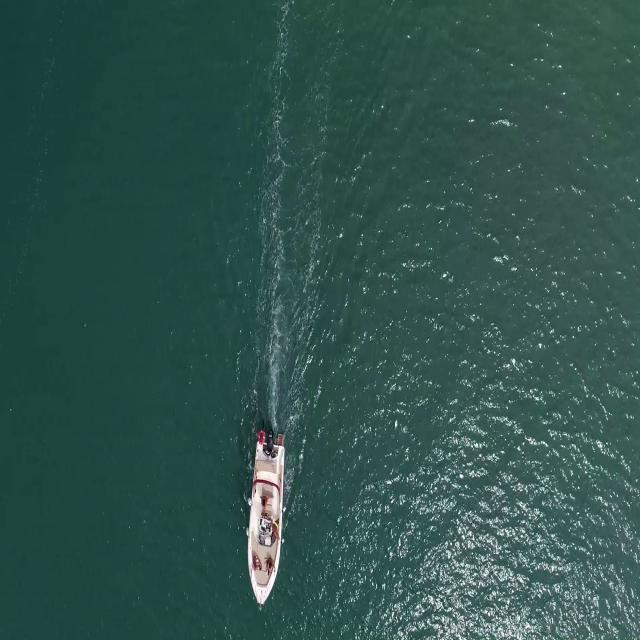boat: (244, 443, 286, 607)
life_buoy: (256, 430, 265, 443)
person: (251, 553, 263, 575), (259, 493, 269, 517), (271, 518, 281, 540), (266, 557, 276, 575)
